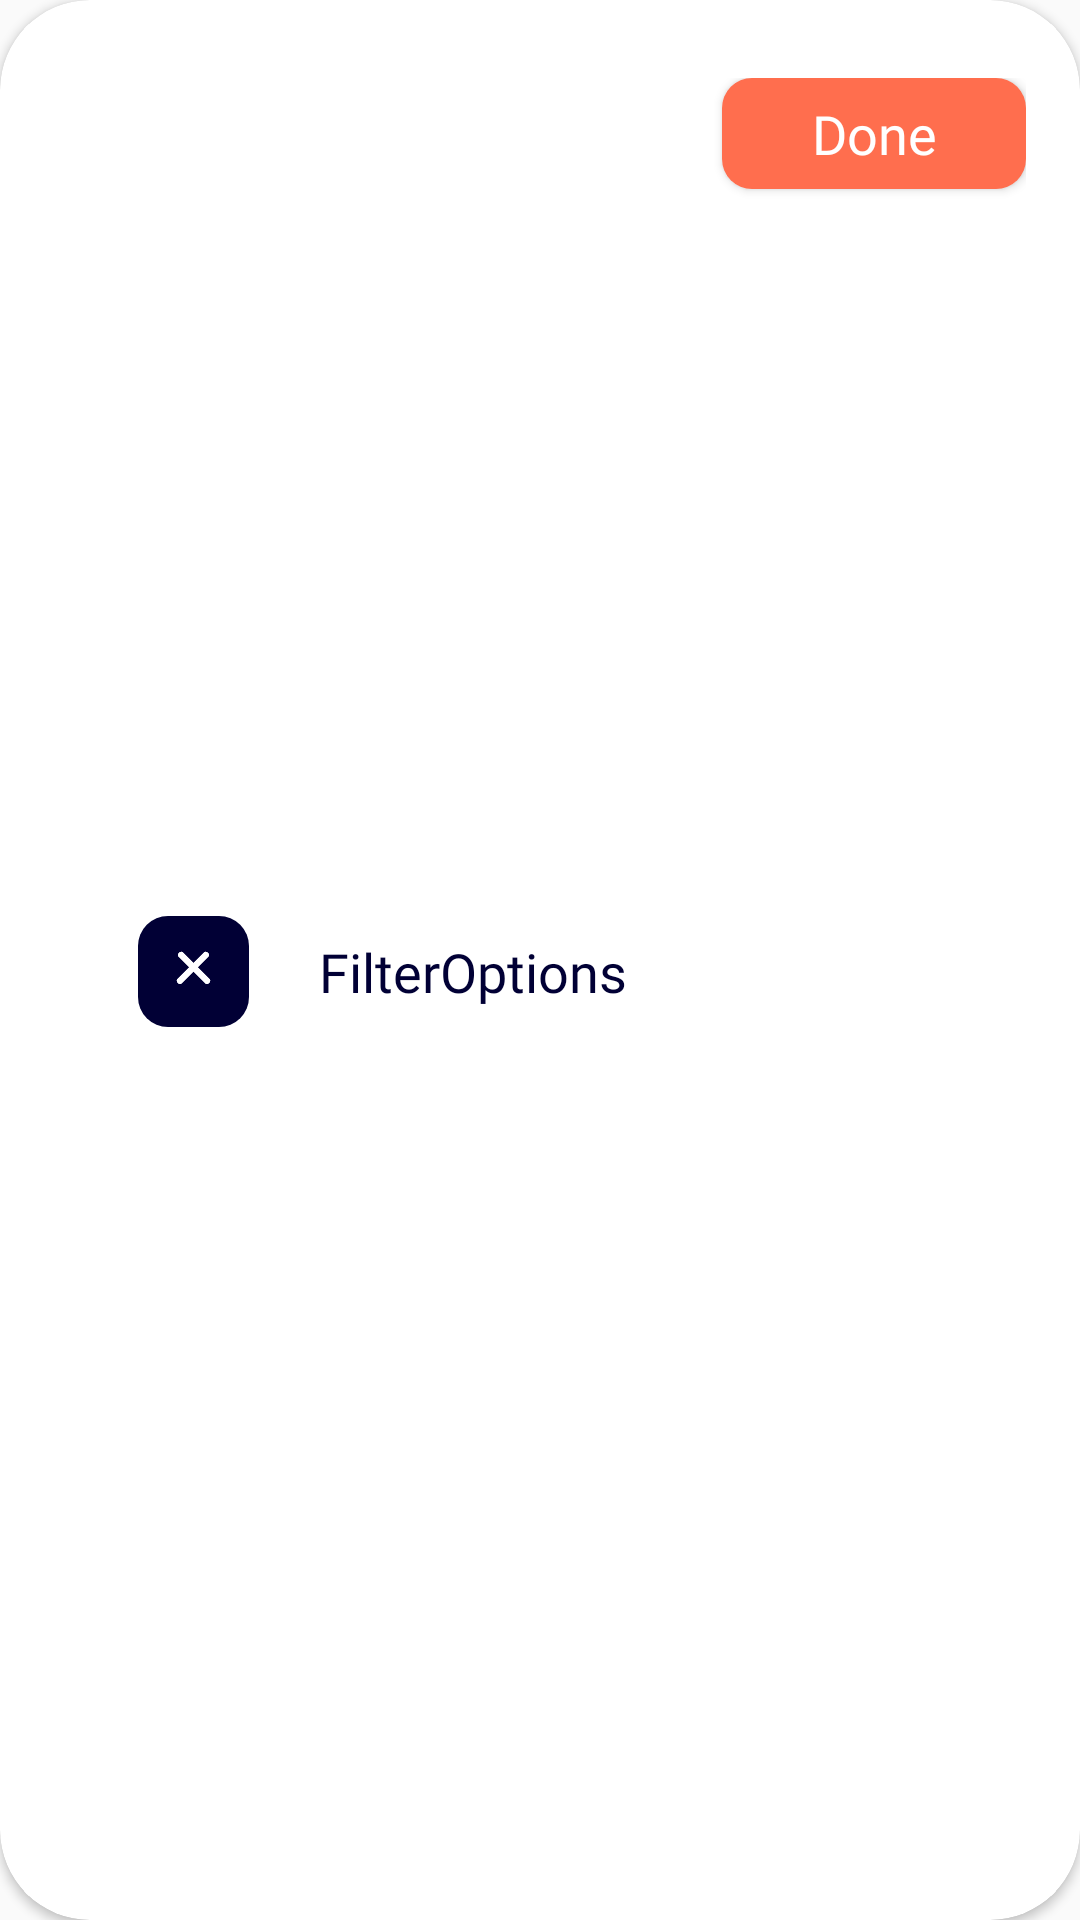

Icon bounding boxes for this 1080 × 1920 phone screenshot, format box=[x1, y1, x2, y2]:
close filter: box=[138, 916, 249, 1027]
